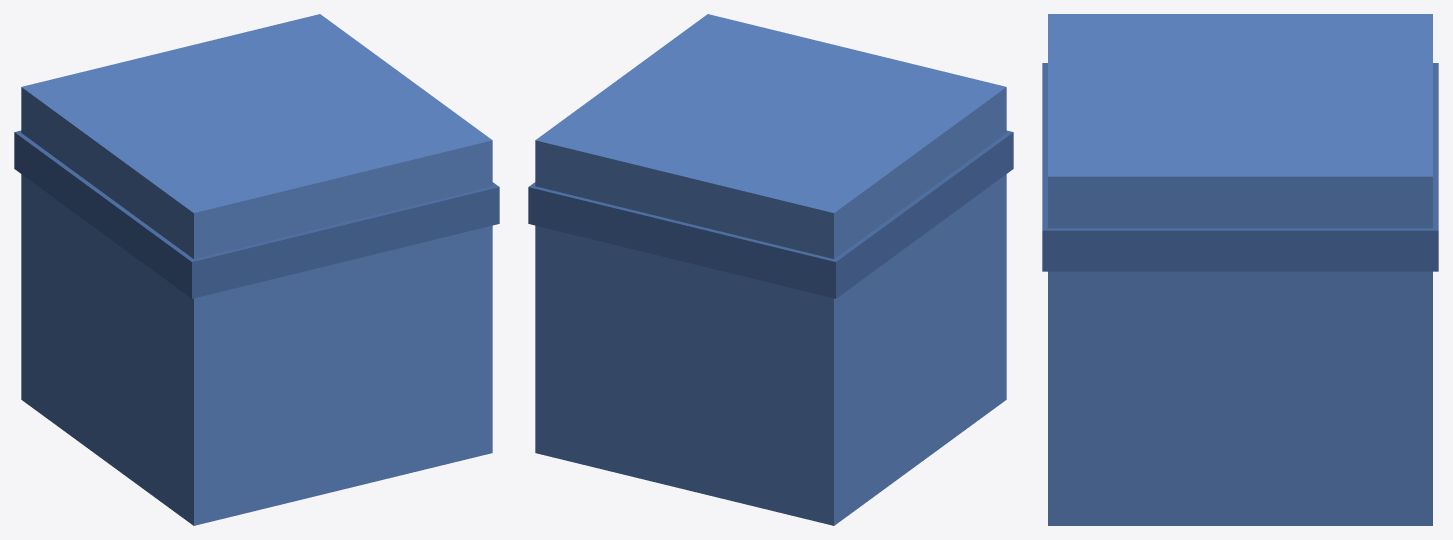
Rendered from polar_manga_sup.glb.
3 renders of one model, left to right at view 1: azimuth 30°, elevation 25°; view 2: azimuth 150°, elevation 25°; view 3: azimuth 270°, elevation 25°, orthographic. The views are drawn at different scales.
Parts seen in each view (by area): view 1: polar_manga_sup; view 2: polar_manga_sup; view 3: polar_manga_sup.
Boxes of the visible parts, x1,y1,x2,y2 form: polar_manga_sup: (14, 14, 499, 525); polar_manga_sup: (528, 14, 1013, 525); polar_manga_sup: (1042, 14, 1438, 525).
Bounding box in the file's own units: 0.35 × 0.34 × 0.35.
